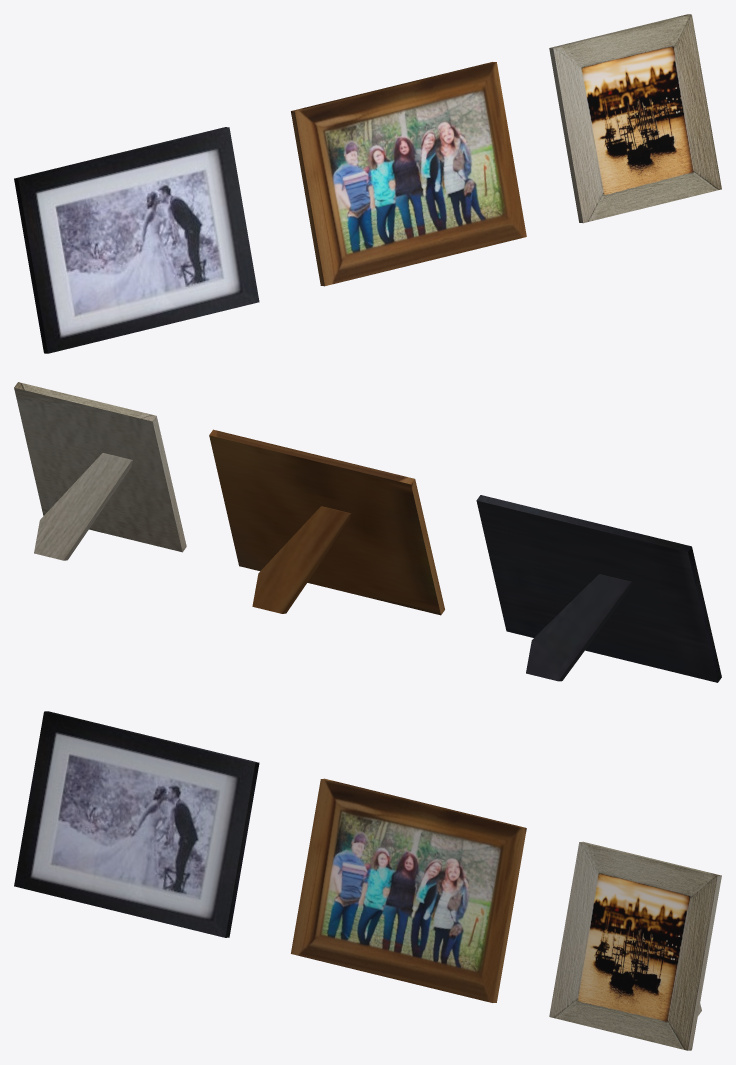
The model's file is PhotoFrame.fbx.
The picture shows the model from 3 angles, top to bottom: view 1: azimuth 30°, elevation 25°; view 2: azimuth 150°, elevation 25°; view 3: azimuth 330°, elevation 25°; orthographic projection.
Visible parts, largest first — view 1: Photo_frame, Photo_frame_01, Photo_frame_02; view 2: Photo_frame, Photo_frame_01, Photo_frame_02; view 3: Photo_frame, Photo_frame_01, Photo_frame_02.
Boxes of the visible parts, left/top/right/bottom form: Photo_frame: left=14, top=127, right=259, bottom=353; Photo_frame_01: left=291, top=62, right=526, bottom=286; Photo_frame_02: left=549, top=14, right=721, bottom=223; Photo_frame: left=476, top=495, right=721, bottom=682; Photo_frame_01: left=209, top=429, right=444, bottom=615; Photo_frame_02: left=14, top=382, right=186, bottom=560; Photo_frame: left=14, top=711, right=259, bottom=937; Photo_frame_01: left=291, top=778, right=526, bottom=1002; Photo_frame_02: left=549, top=841, right=721, bottom=1050.
Size of the model in its own units: 94.02 by 20.8 by 10.84.
